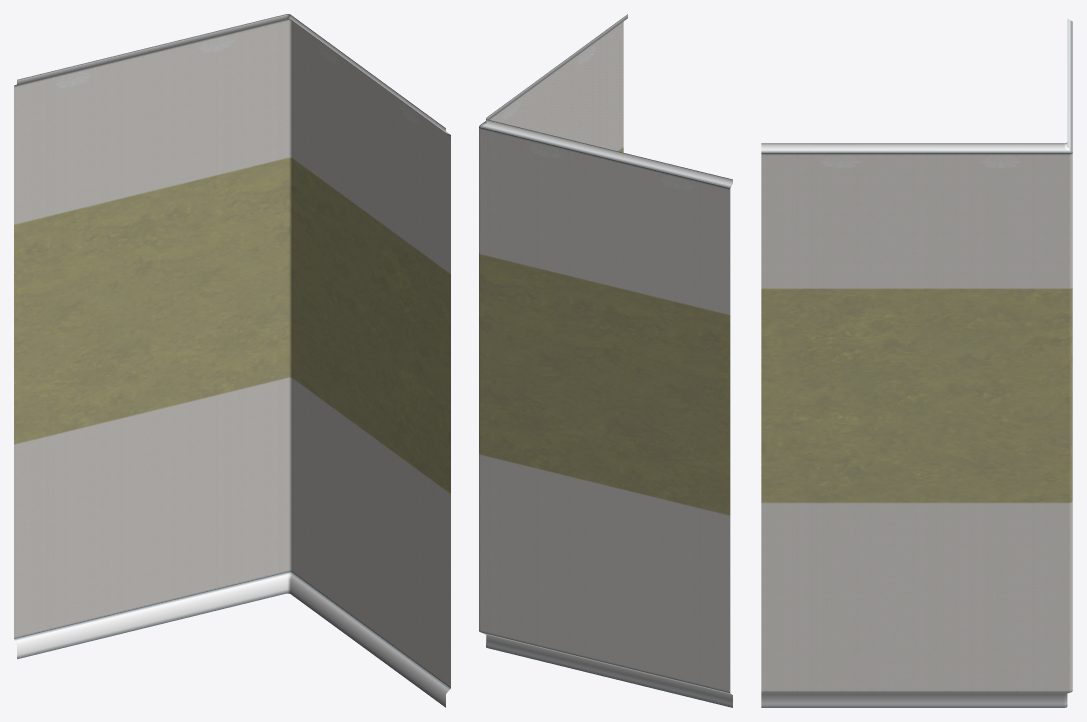
File: waitingroom_concave.dae
3 views of the same model, side by side, from view 1: azimuth 30°, elevation 25°; view 2: azimuth 150°, elevation 25°; view 3: azimuth 270°, elevation 25° (orthographic). The views are drawn at different scales.
Parts seen in each view (by area): view 1: waitingroom_concave; view 2: waitingroom_concave; view 3: waitingroom_concave.
Boxes of the visible parts, x1,y1,x2,y2 form: waitingroom_concave: (14, 14, 450, 707); waitingroom_concave: (479, 14, 732, 707); waitingroom_concave: (761, 18, 1072, 707).
Bounding box in the file's own units: 200 × 400 × 200.
